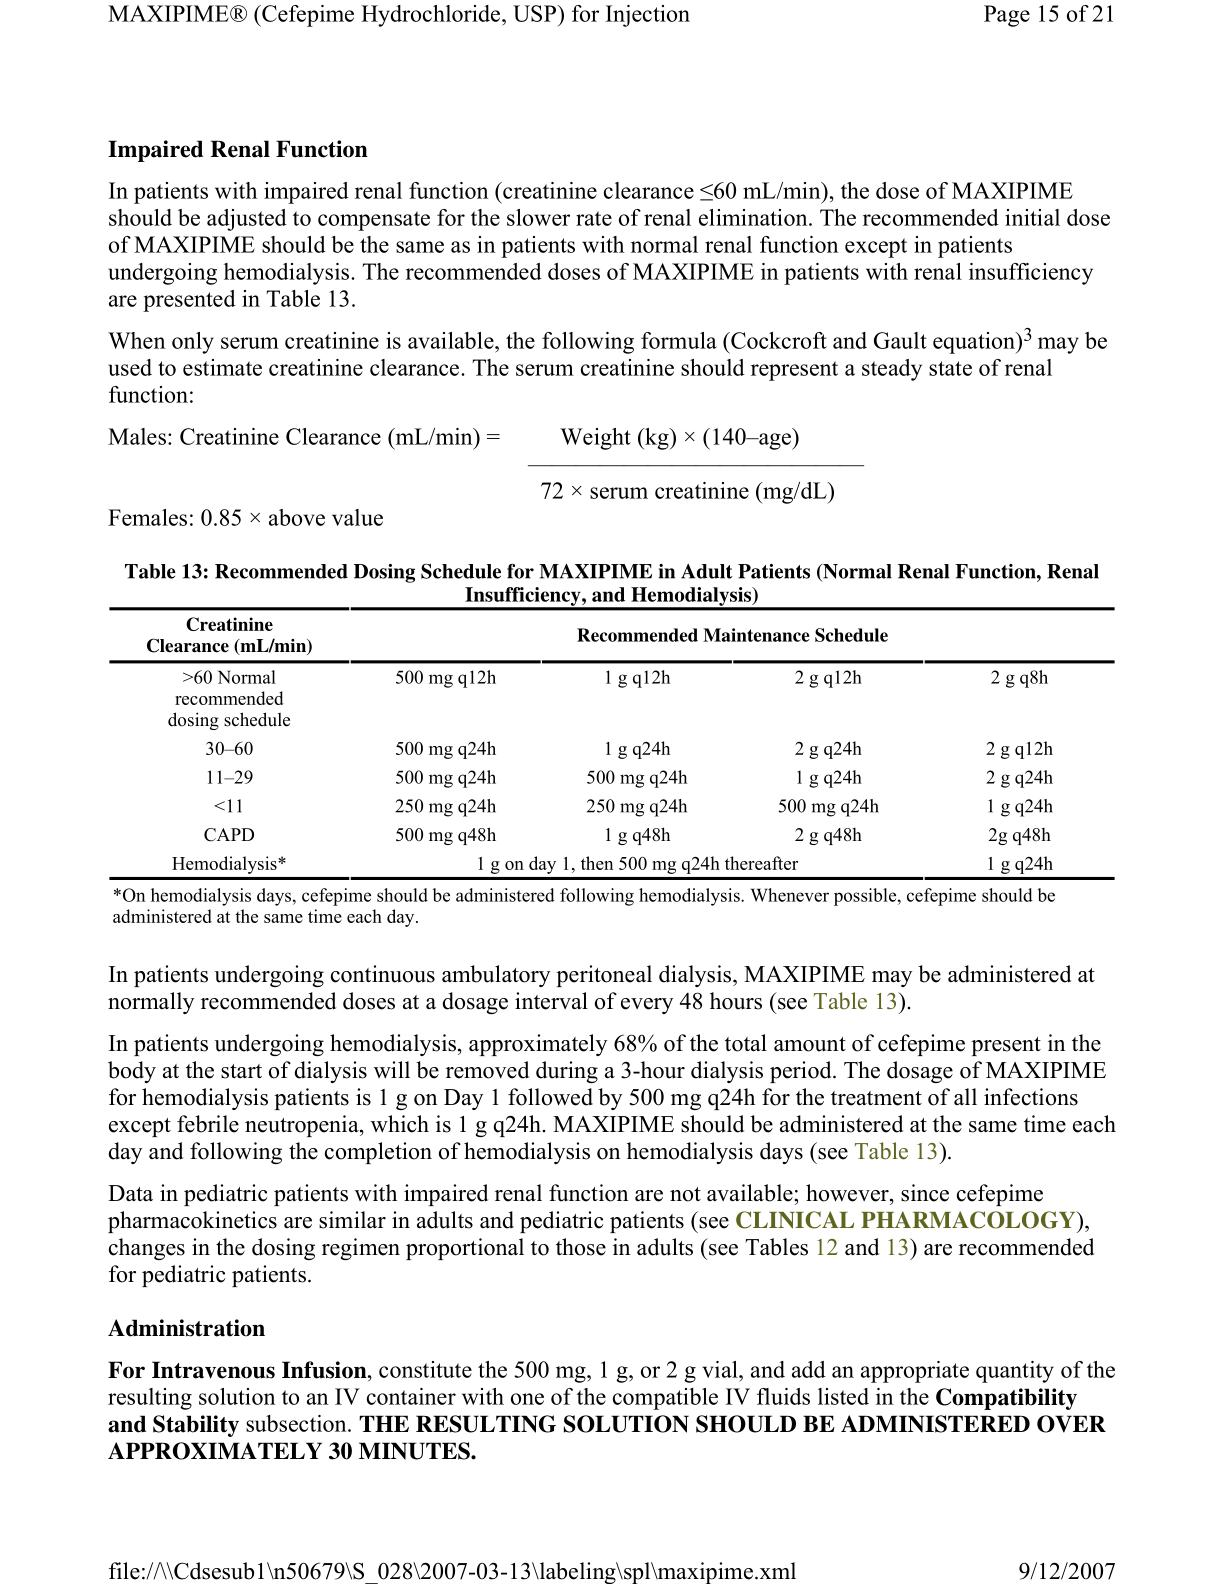partial_lined_merged_cells: (108, 604, 1122, 885)
